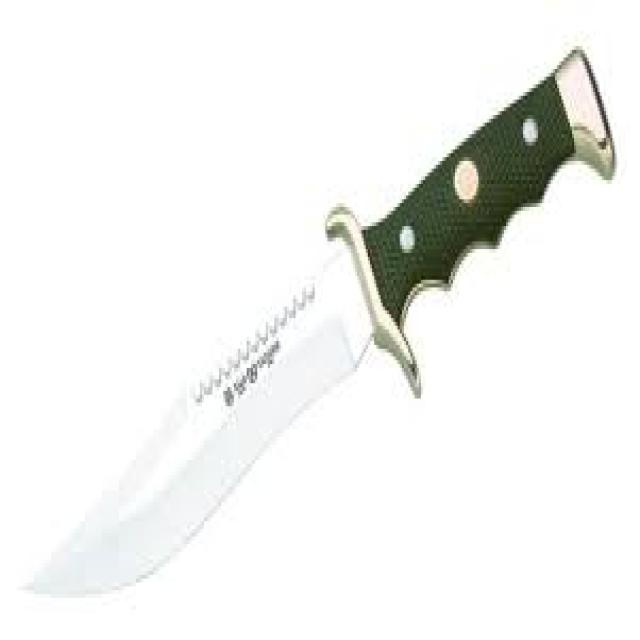knife: (20, 45, 618, 610)
